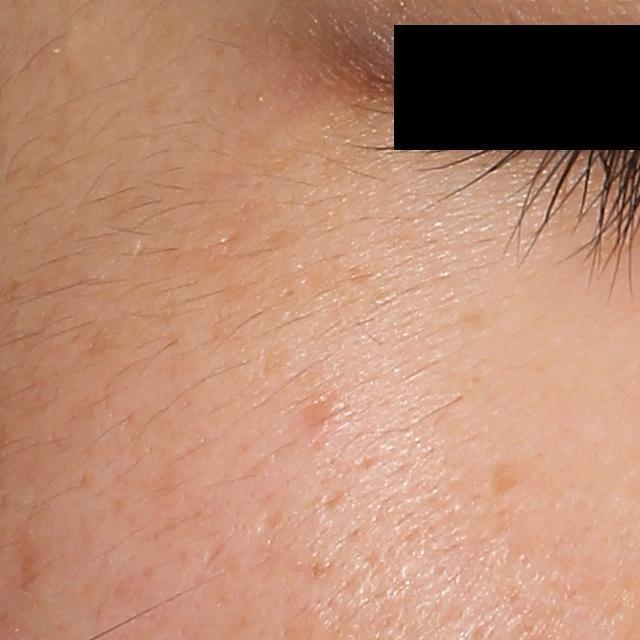melasma: (488, 456, 532, 495)
